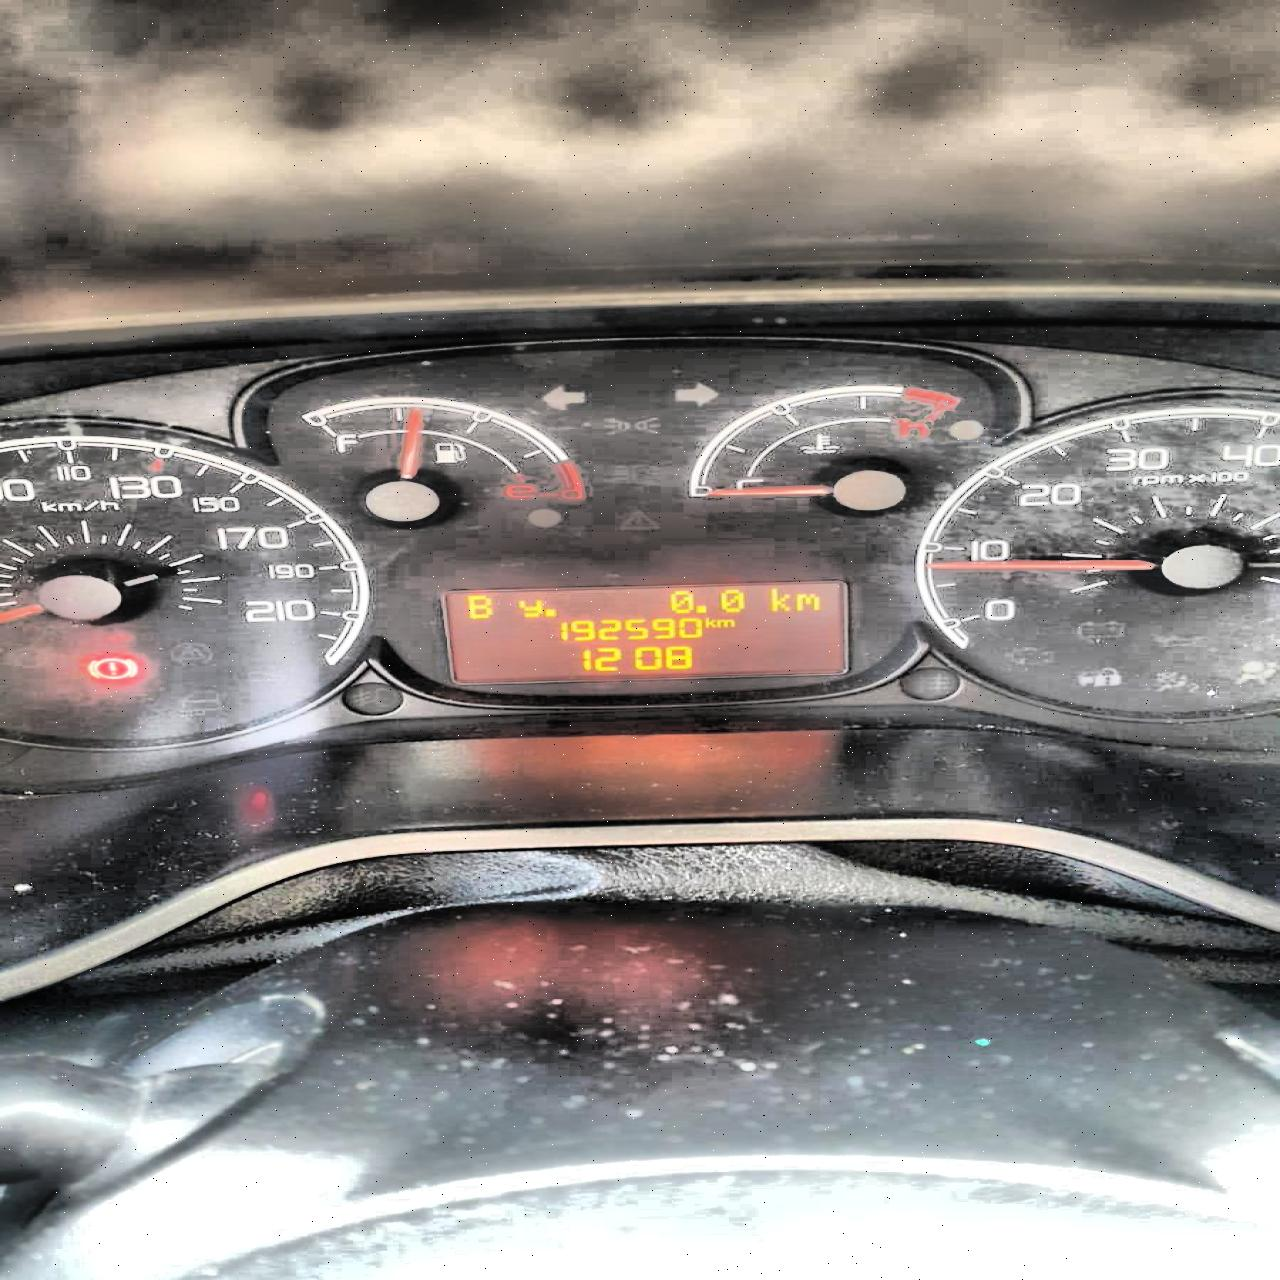-: (692, 602, 709, 613), (543, 605, 557, 617)
0: (632, 644, 661, 670), (666, 588, 692, 614), (720, 588, 744, 613), (678, 618, 701, 639)
1: (577, 646, 592, 672), (557, 619, 570, 641)
2: (594, 645, 621, 670), (597, 618, 620, 640)
5: (624, 618, 647, 640)
8: (663, 645, 690, 670)
9: (649, 617, 675, 640), (570, 620, 593, 640)
X: (464, 595, 497, 622), (791, 591, 821, 612), (768, 585, 791, 610), (515, 598, 542, 619), (716, 618, 733, 627), (703, 617, 716, 628)
odometer: (433, 577, 873, 688)
